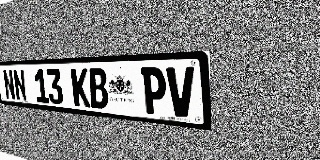1: (33, 69, 49, 104)
3: (46, 69, 64, 105)
B: (88, 68, 109, 110)
K: (71, 68, 91, 108)
N: (13, 70, 27, 101), (2, 70, 16, 100)
P: (141, 67, 167, 115)
V: (166, 67, 196, 118)
